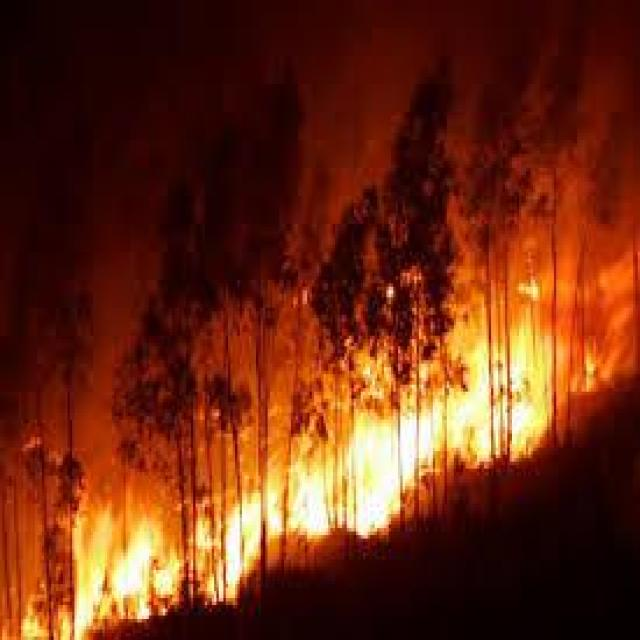fire: (20, 397, 312, 625), (356, 262, 599, 505)
smoke: (60, 80, 324, 347)
